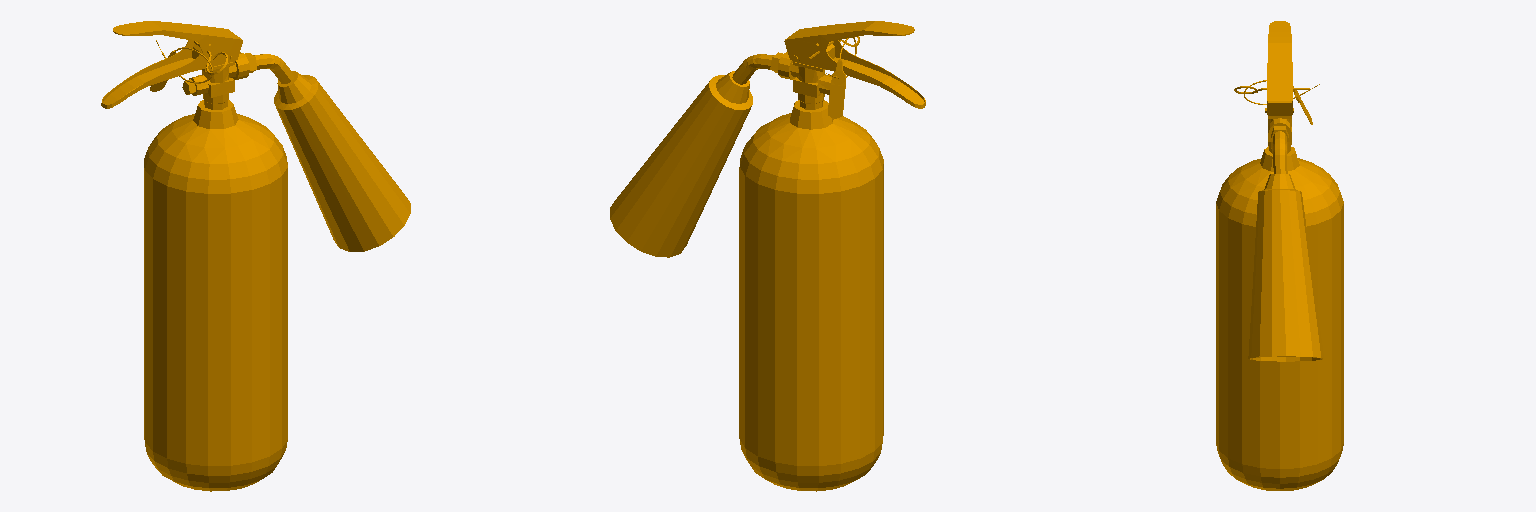
The robot description file, URDF, robot "mesh_object":
<?xml version="1.0" ?>
<robot name="mesh_object">
  <link name="base">
    <visual>
      <geometry>
        <mesh filename="fire_hose_4.obj" scale="1 1 1"/>
      </geometry>
    </visual>
    <collision>
      <geometry>
        <mesh filename="fire_hose_4.obj" scale="1 1 1"/>
      </geometry>
    </collision>
    <inertial>
      <origin xyz="0.020467 0.000921 0.092582" rpy="0 0 0"/>
      <mass value="0.5"/>
      <inertia ixx="0.01" iyy="0.01" izz="0.01" ixy="0" ixz="0" iyz="0"/>
    </inertial>
  </link>
</robot>

--- Facts derived from the render (not from the file) ---
The picture shows the robot from 3 angles, left to right: view 1: azimuth 30°, elevation 25°; view 2: azimuth 150°, elevation 25°; view 3: azimuth 270°, elevation 25°; orthographic projection.
Robot: mesh_object — 1 links, 0 joints (none); root link base; default pose: all joints at 0.
Visible links, largest first — view 1: base; view 2: base; view 3: base.
Link boxes in pixels (box(x1,y1,x2,y2)): base: box(101, 21, 410, 491); base: box(610, 21, 925, 491); base: box(1216, 21, 1343, 490).
Bounding box of the posed robot: 0.1251 × 0.0515 × 0.1852 m (x, y, z).
Meshes: 1 distinct files referenced, 1 mesh visuals loaded (1 OBJ).
